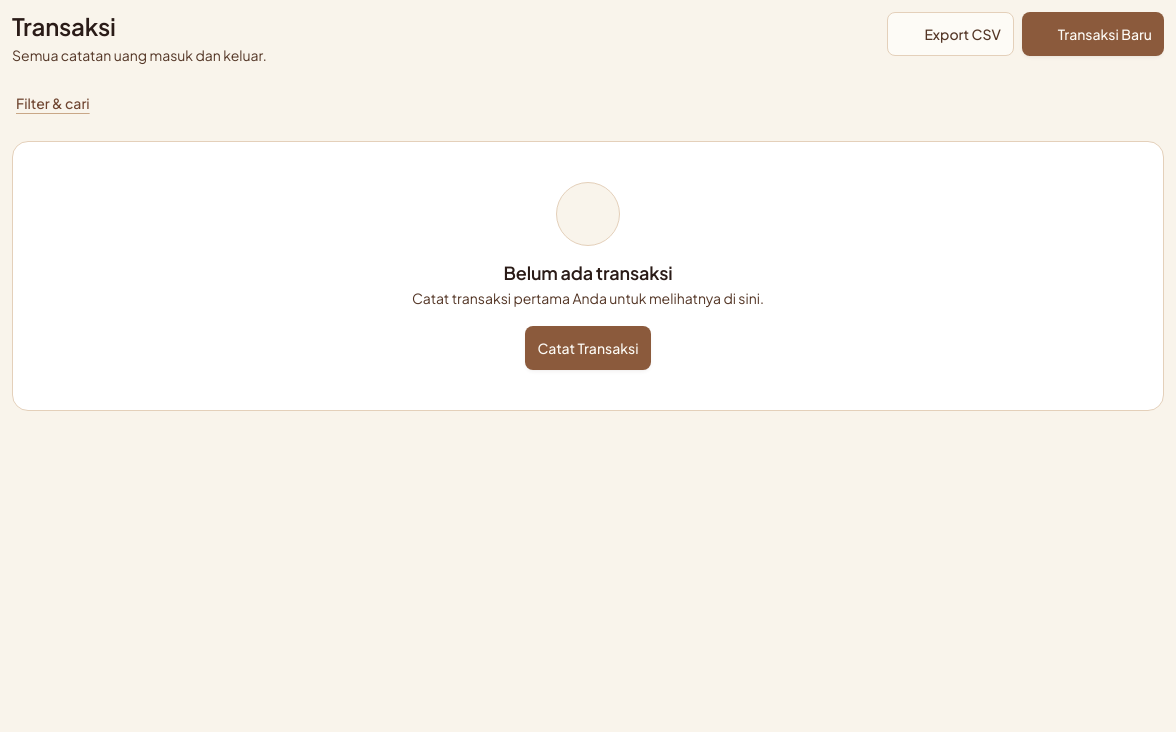
Test: TransactionListPage filters › filter tertutup default, terbuka setelah toggle
This screenshot has width=1176, height=732.
Expected: the heading "Belum ada transaksi" is shown, x1=504 y1=262 x2=672 y2=283
Click the button "Filter & cari" at (53, 103), box x1=12 y1=81 x2=94 y2=125
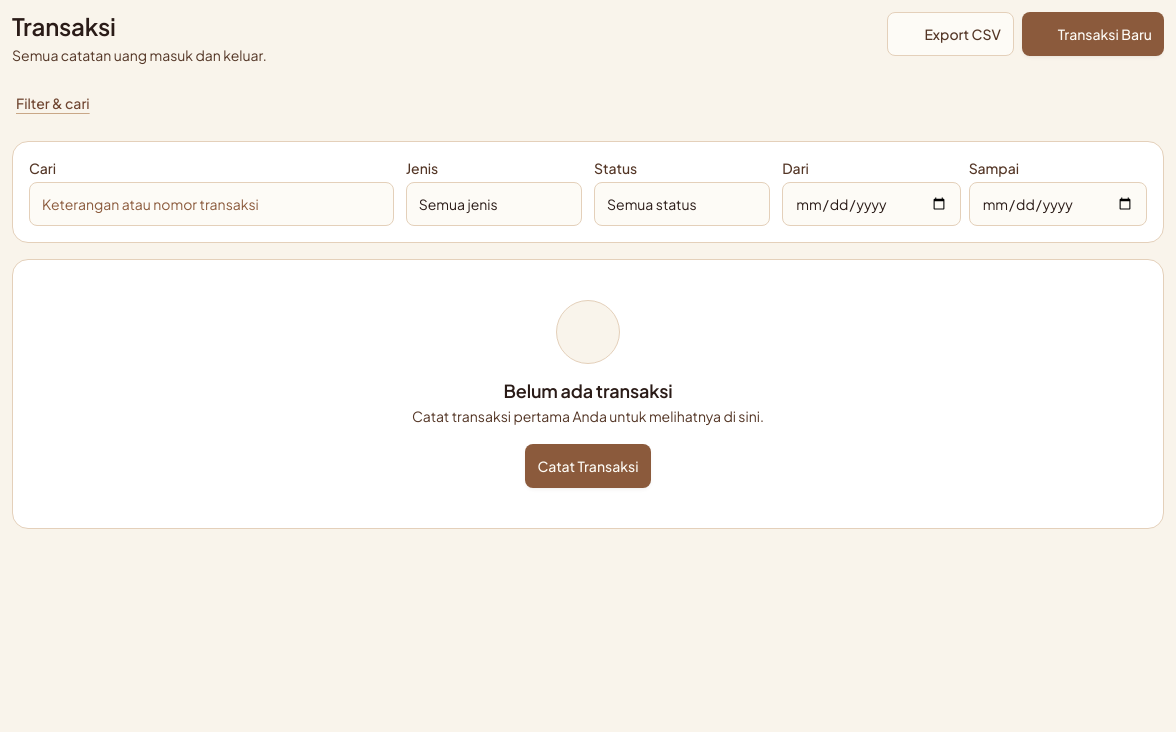
Now the field labelled "Cari" is shown, box x1=29 y1=182 x2=394 y2=226
